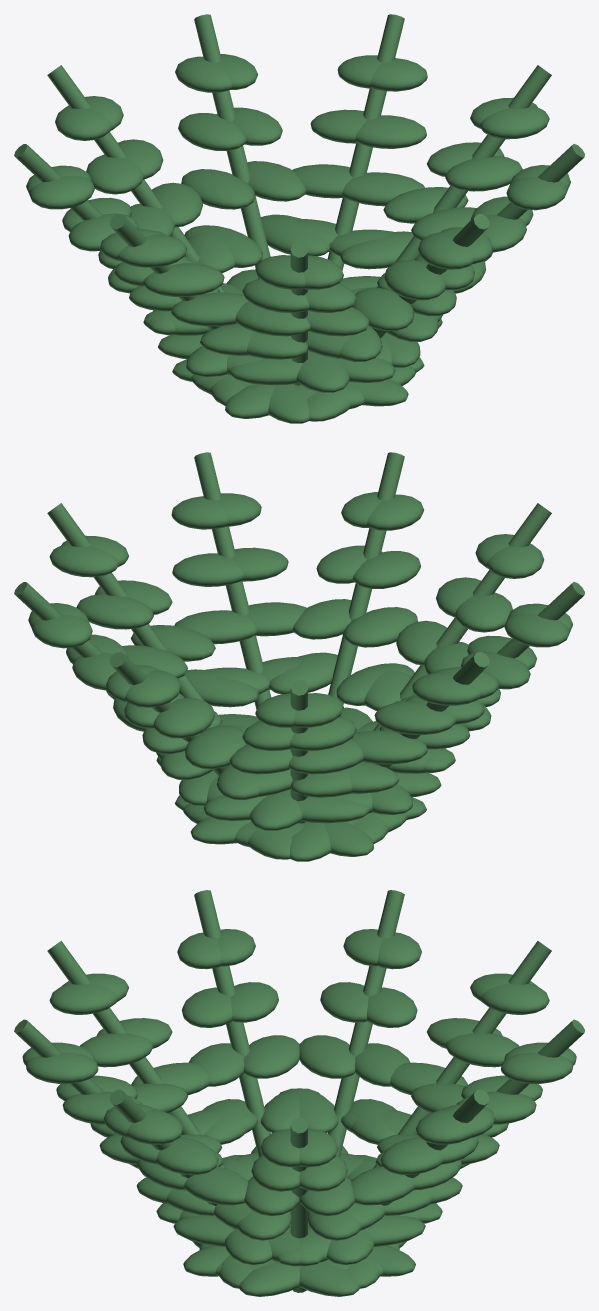
Rendered from fern.glb.
3 views of the same model, one above another, from view 1: azimuth 30°, elevation 25°; view 2: azimuth 150°, elevation 25°; view 3: azimuth 270°, elevation 25° (orthographic).
Visible parts, largest first — view 1: Stem7, Stem8, Stem6, Stem0, Leaflet7_3_1, Leaflet4_4_1, Leaflet0_4_-1, Leaflet4_3_1, Leaflet2_3_-1, Leaflet7_4_1, Leaflet8_4_-1, Leaflet8_3_-1 (+68 smaller); view 2: Stem2, Stem1, Stem3, Stem0, Leaflet2_3_-1, Leaflet5_4_-1, Leaflet0_4_1, Leaflet5_3_-1, Leaflet7_3_1, Leaflet2_4_-1, Leaflet1_4_1, Leaflet1_3_1 (+68 smaller); view 3: Stem4, Stem5, Stem6, Stem3, Leaflet5_3_1, Leaflet4_3_-1, Leaflet6_4_-1, Leaflet8_3_-1, Leaflet3_4_1, Leaflet1_3_1, Leaflet2_5_1, Leaflet7_5_-1 (+73 smaller).
Boxes of the visible parts, <box> form: Stem7: <box>194,14,270,278</box>; Stem8: <box>327,14,404,270</box>; Stem6: <box>47,65,225,292</box>; Stem0: <box>376,65,551,287</box>; Leaflet7_3_1: <box>181,169,255,209</box>; Leaflet4_4_1: <box>143,263,224,296</box>; Leaflet0_4_-1: <box>445,156,522,191</box>; Leaflet4_3_1: <box>171,292,248,326</box>; Leaflet2_3_-1: <box>352,287,414,331</box>; Leaflet7_4_1: <box>178,113,246,150</box>; Leaflet8_4_-1: <box>355,115,426,148</box>; Leaflet8_3_-1: <box>342,172,424,206</box>; Stem2: <box>328,452,404,716</box>; Stem1: <box>194,452,271,709</box>; Stem3: <box>373,503,551,730</box>; Stem0: <box>47,503,222,725</box>; Leaflet2_3_-1: <box>344,607,417,647</box>; Leaflet5_4_-1: <box>374,701,456,734</box>; Leaflet0_4_1: <box>76,594,153,629</box>; Leaflet5_3_-1: <box>351,730,427,764</box>; Leaflet7_3_1: <box>185,725,246,769</box>; Leaflet2_4_-1: <box>353,551,420,588</box>; Leaflet1_4_1: <box>172,553,243,586</box>; Leaflet1_3_1: <box>174,610,256,644</box>; Stem4: <box>194,890,270,1157</box>; Stem5: <box>328,890,404,1156</box>; Stem6: <box>373,941,551,1168</box>; Stem3: <box>47,940,225,1168</box>; Leaflet5_3_1: <box>299,1035,355,1078</box>; Leaflet4_3_-1: <box>244,1035,299,1078</box>; Leaflet6_4_-1: <box>445,1033,519,1067</box>; Leaflet8_3_-1: <box>351,1166,414,1205</box>; Leaflet3_4_1: <box>80,1033,153,1067</box>; Leaflet1_3_1: <box>184,1166,247,1205</box>; Leaflet2_5_1: <box>25,1052,98,1083</box>; Leaflet7_5_-1: <box>501,1052,573,1083</box>.
Bounding box in the file's own units: 1.13 × 0.644 × 1.15.
